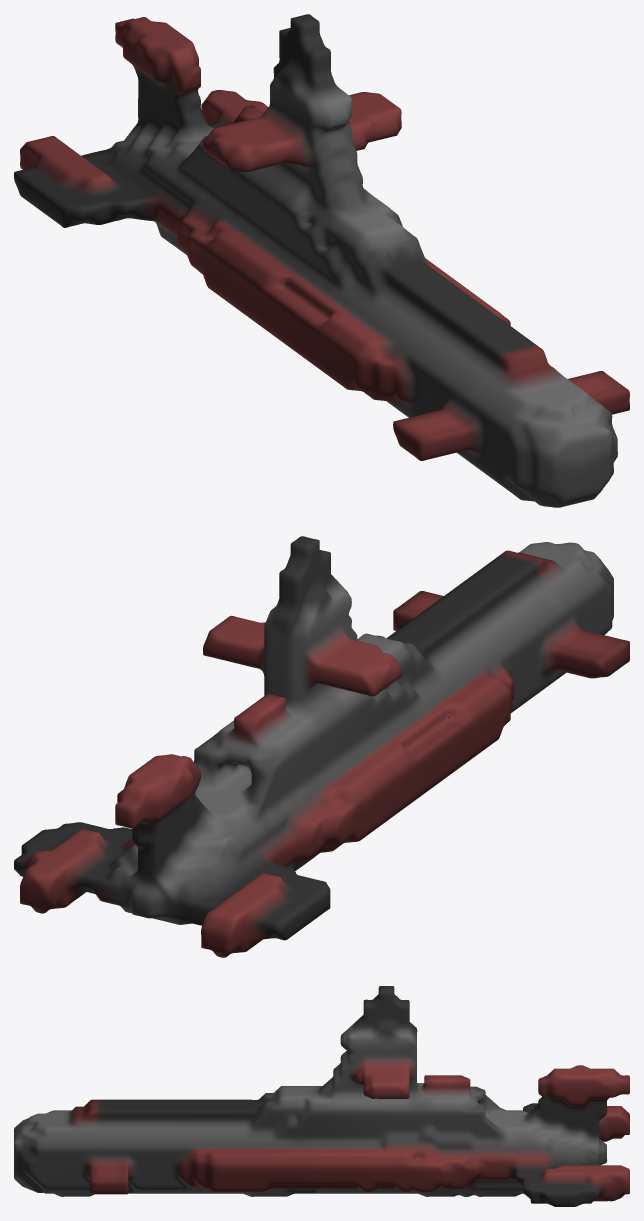
File: typhoon_sub.glb
3 renders of one model, top to bottom at view 1: azimuth 30°, elevation 25°; view 2: azimuth 150°, elevation 25°; view 3: azimuth 270°, elevation 25°, orthographic. The views are drawn at different scales.
Visible parts, largest first — view 1: typhoon_sub; view 2: typhoon_sub; view 3: typhoon_sub.
Part boxes in pixels (bbox=[...]): typhoon_sub: bbox=[14, 14, 629, 507]; typhoon_sub: bbox=[14, 536, 629, 957]; typhoon_sub: bbox=[14, 986, 629, 1206].
Bounding box in the file's own units: 2.36 × 2.41 × 6.75.
